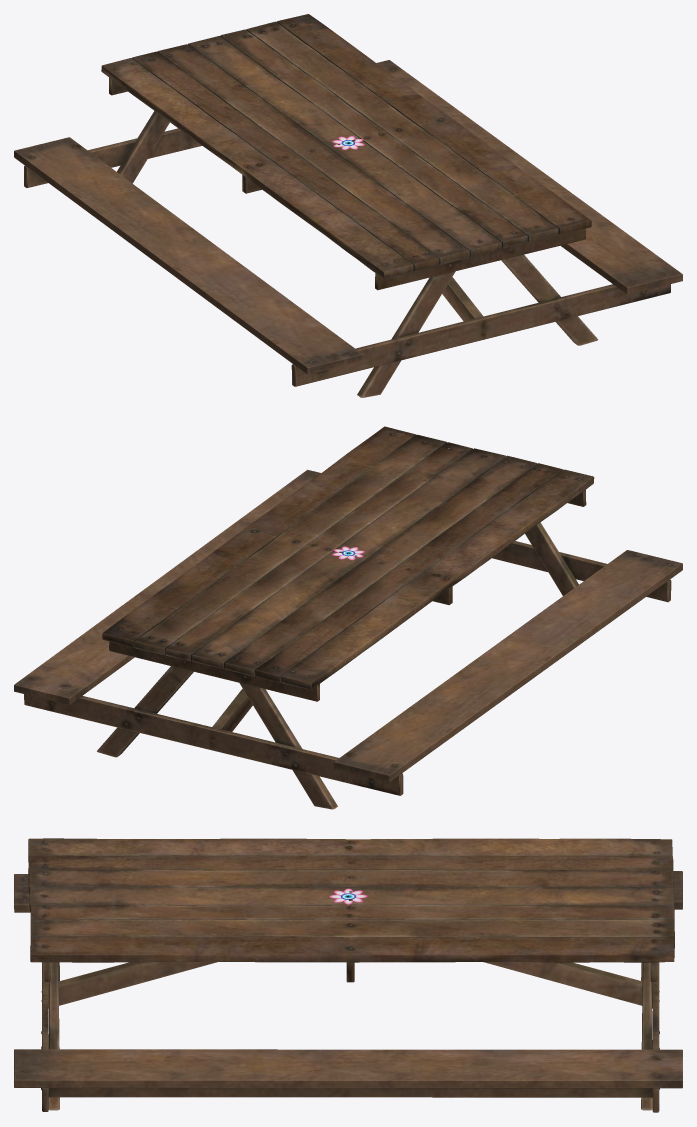
File: isl_picnic.glb
3 views of the same model, one above another, from view 1: azimuth 30°, elevation 25°; view 2: azimuth 150°, elevation 25°; view 3: azimuth 270°, elevation 25° (orthographic). The views are drawn at different scales.
Visible parts, largest first — view 1: wooden_picnic_table; view 2: wooden_picnic_table; view 3: wooden_picnic_table.
Part boxes in pixels (left/top/right/bottom): wooden_picnic_table: left=14, top=14, right=682, bottom=397; wooden_picnic_table: left=14, top=426, right=682, bottom=809; wooden_picnic_table: left=14, top=838, right=682, bottom=1112.
Bounding box in the file's own units: 2.24 × 0.746 × 3.02.
3 materials, 3 textured.
